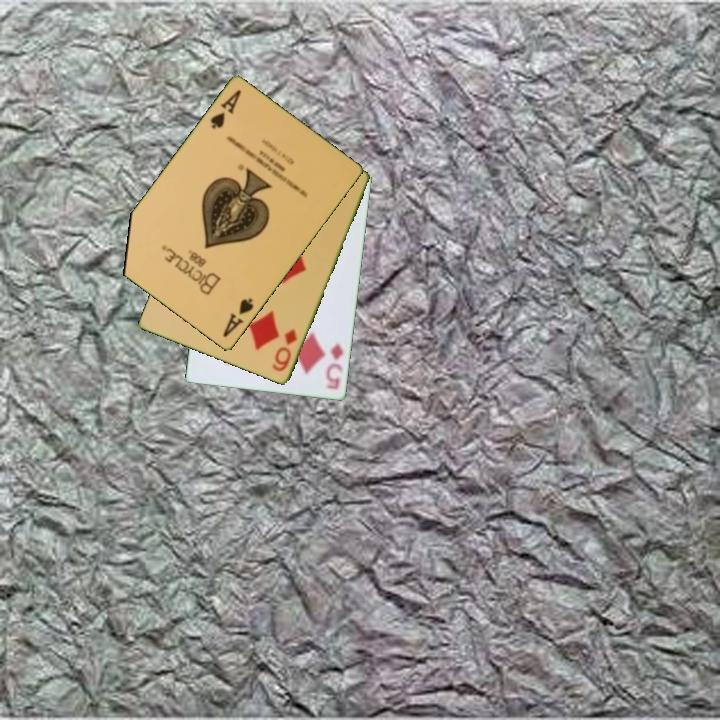5d: (322, 340, 347, 393)
6d: (269, 326, 300, 375)
As: (219, 295, 256, 341), (207, 87, 244, 132)
